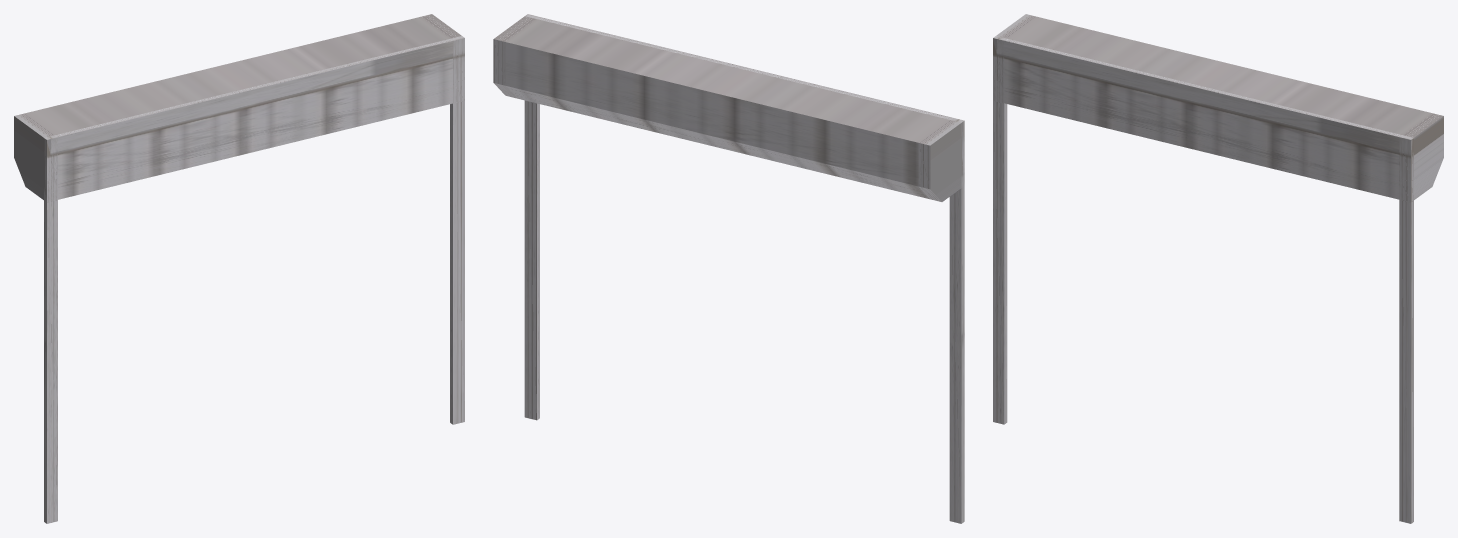
Rendered from Rollershutter_O_C.fbx.
3 renders of one model, left to right at view 1: azimuth 30°, elevation 25°; view 2: azimuth 150°, elevation 25°; view 3: azimuth 330°, elevation 25°, orthographic. The views are drawn at different scales.
Parts seen in each view (by area): view 1: Rollershutter_O_C; view 2: Rollershutter_O_C; view 3: Rollershutter_O_C.
Boxes of the visible parts, x1,y1,x2,y2 form: Rollershutter_O_C: [14, 14, 464, 523]; Rollershutter_O_C: [493, 14, 964, 523]; Rollershutter_O_C: [993, 14, 1443, 523].
Size of the model in its own units: 291 by 256 by 39.59.
